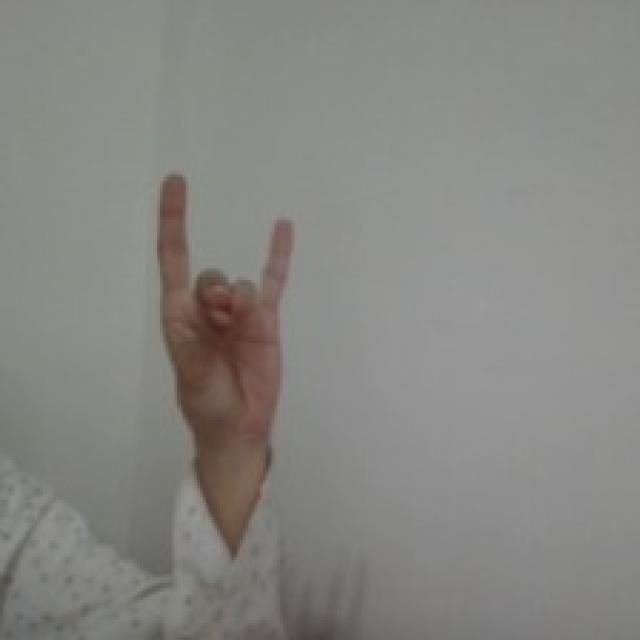Dog: (143, 160, 306, 449)
